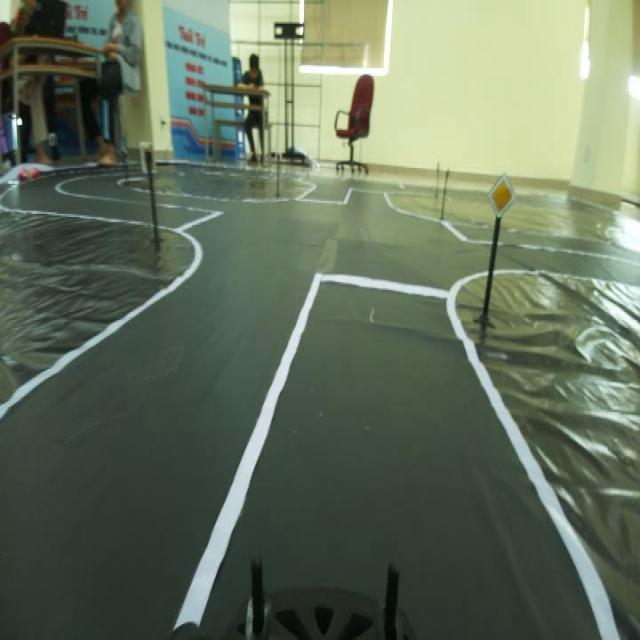priority: (484, 170, 516, 223)
